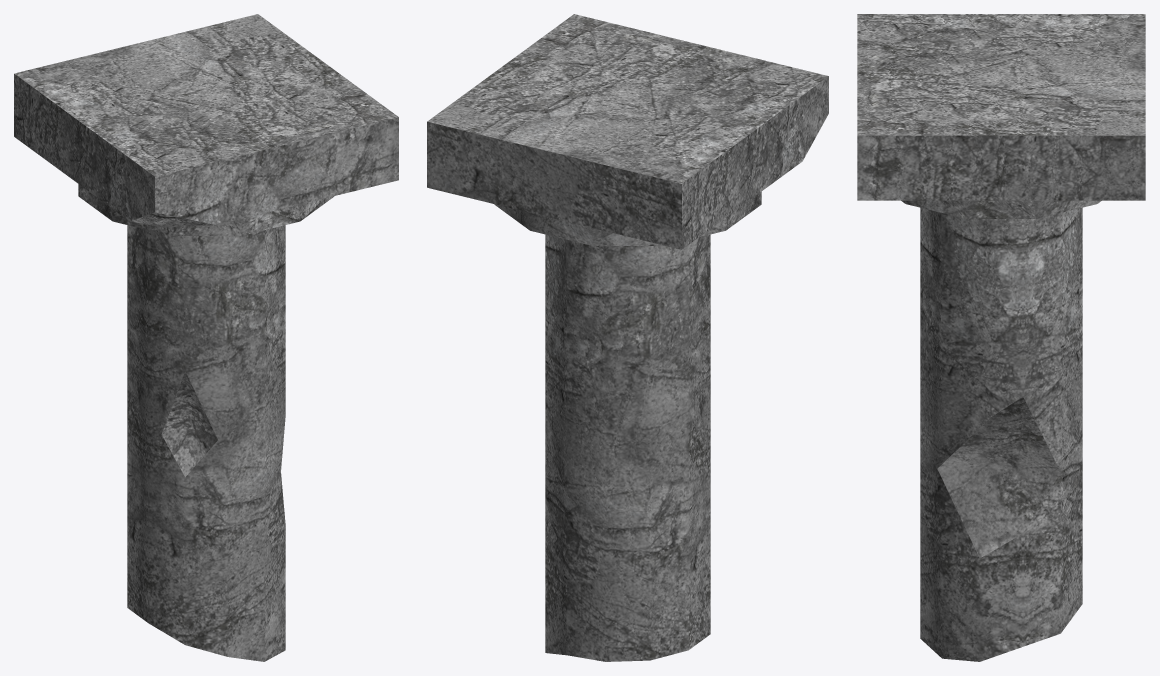
File: materials_3_rubble_21.fbx
3 renders of one model, left to right at view 1: azimuth 30°, elevation 25°; view 2: azimuth 150°, elevation 25°; view 3: azimuth 270°, elevation 25°, orthographic. The views are drawn at different scales.
Parts seen in each view (by area): view 1: materials_3_rubble_21; view 2: materials_3_rubble_21; view 3: materials_3_rubble_21.
Part boxes in pixels (bbox=[...]): materials_3_rubble_21: bbox=[14, 14, 398, 661]; materials_3_rubble_21: bbox=[427, 14, 828, 661]; materials_3_rubble_21: bbox=[857, 14, 1145, 661].
Bounding box in the file's own units: 49.93 × 107 × 49.93.
